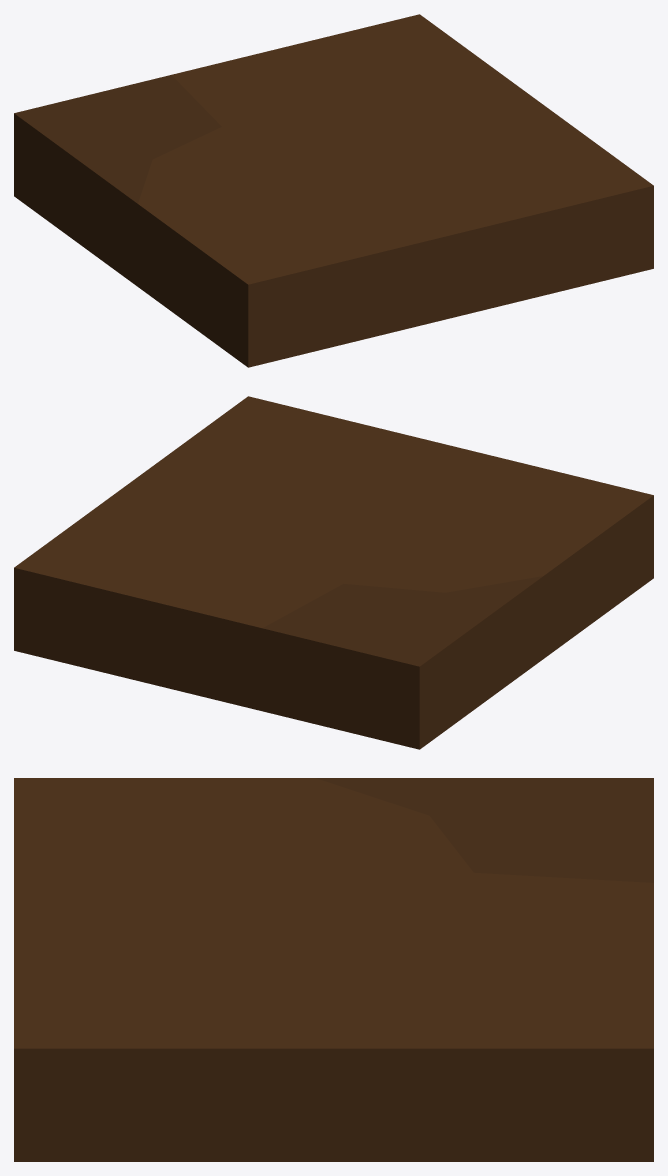
Rendered from Ground_1_5.glb.
3 renders of one model, top to bottom at view 1: azimuth 30°, elevation 25°; view 2: azimuth 150°, elevation 25°; view 3: azimuth 270°, elevation 25°, orthographic. The views are drawn at different scales.
Parts seen in each view (by area): view 1: Ground_1_5; view 2: Ground_1_5; view 3: Ground_1_5.
Part boxes in pixels (<box>): Ground_1_5: <box>14,14,653,367</box>; Ground_1_5: <box>14,396,653,749</box>; Ground_1_5: <box>14,778,653,1161</box>.
Size of the model in its own units: 2 by 0.3912 by 2.
1 material, 1 textured.
